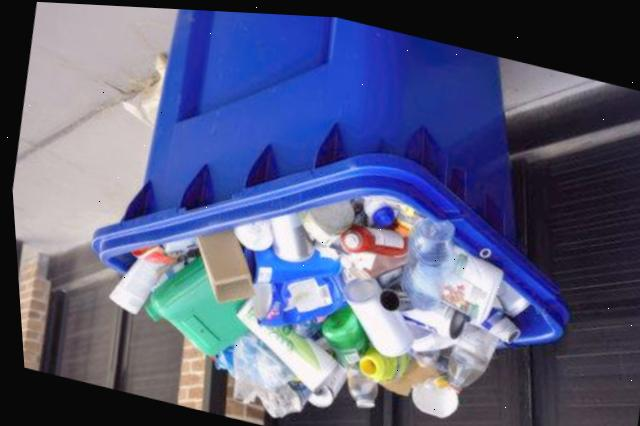Garbage: (99, 179, 545, 421)
Glass_bottle: (340, 363, 371, 403)
Plastic_Bag: (227, 328, 304, 414)
Plastic_Container: (139, 254, 241, 353), (231, 297, 331, 386), (339, 274, 408, 352), (238, 244, 337, 280), (104, 256, 157, 312), (336, 220, 403, 252), (353, 341, 405, 377)
Plastic_bottle: (396, 212, 451, 305), (441, 318, 493, 386), (315, 301, 363, 362)
tin_box: (267, 209, 309, 258), (302, 360, 341, 403)
